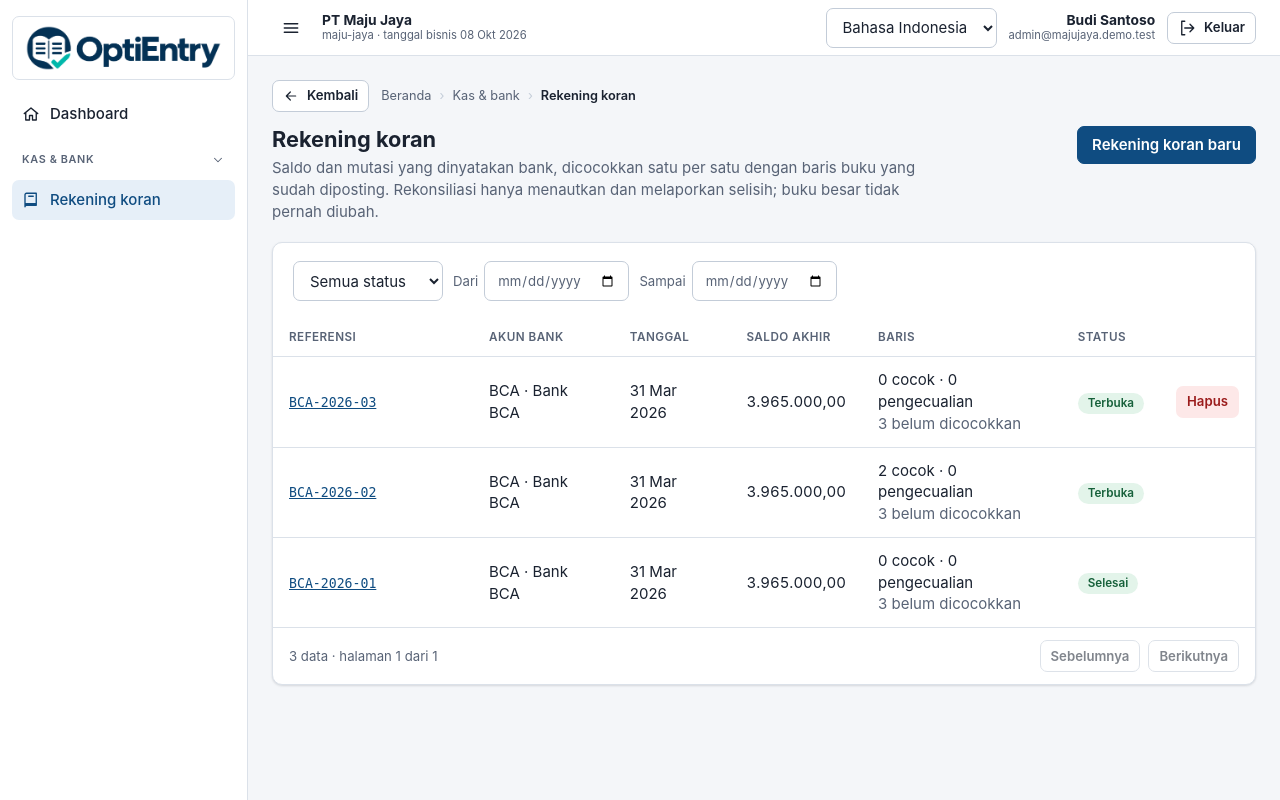
Test case: bank statements list › deletes only open statements without matches, after confirmation
The image size is (1280, 800).
expect the link "BCA-2026-03" is shown: met, box left=289, top=395, right=376, bottom=410
Click the button with aria-label "Hapus BCA-2026-03" at x=1208, y=402, box left=1176, top=386, right=1239, bottom=418
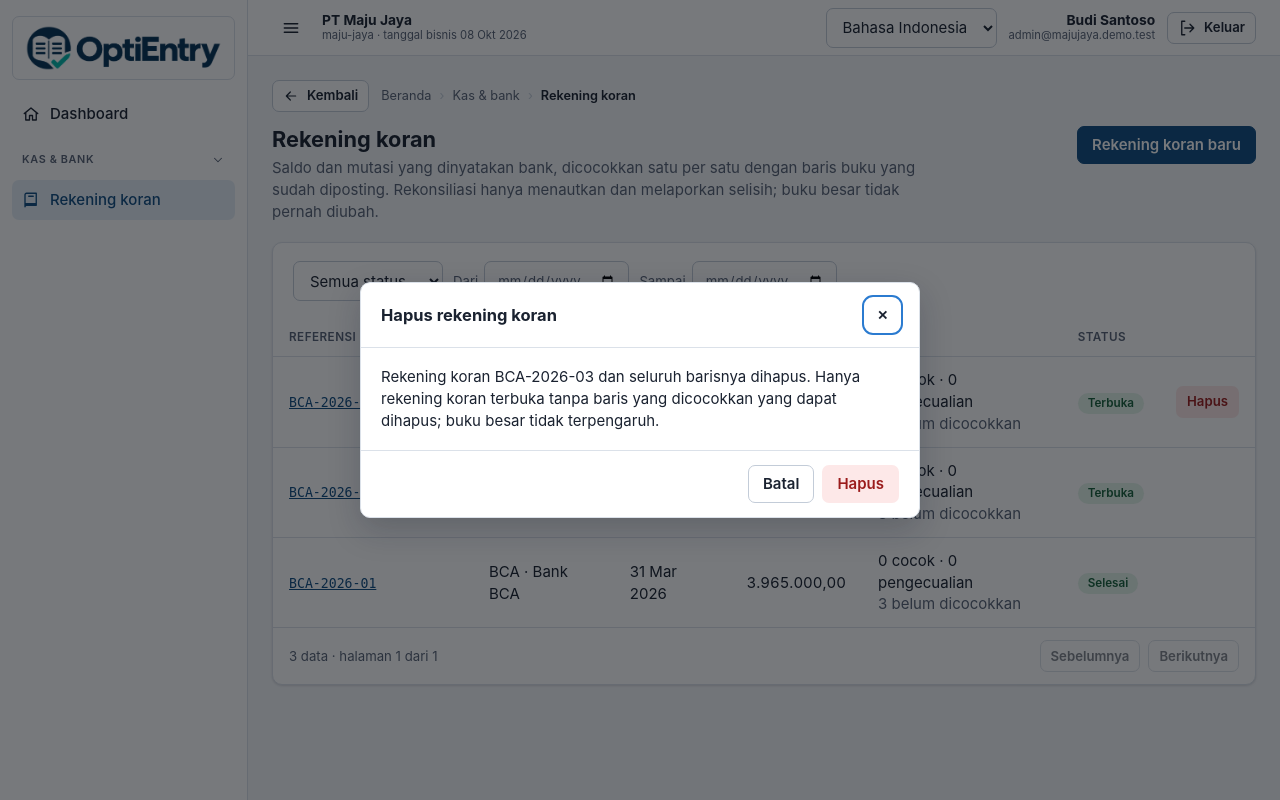
Click the button "Hapus" at x=861, y=484, box left=822, top=465, right=899, bottom=503
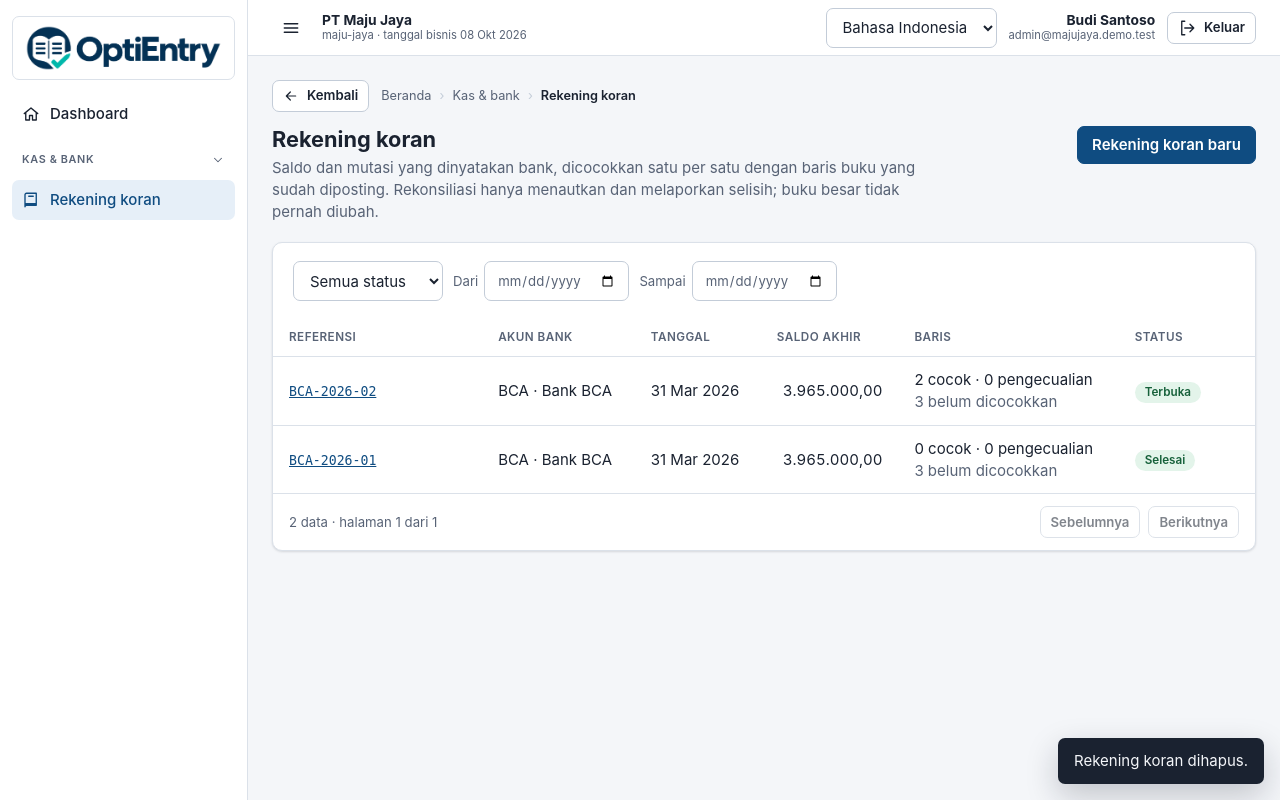
expect the link "BCA-2026-03" is gone: met
expect the text "Rekening koran dihapus." is shown: met, box left=1058, top=738, right=1264, bottom=784
